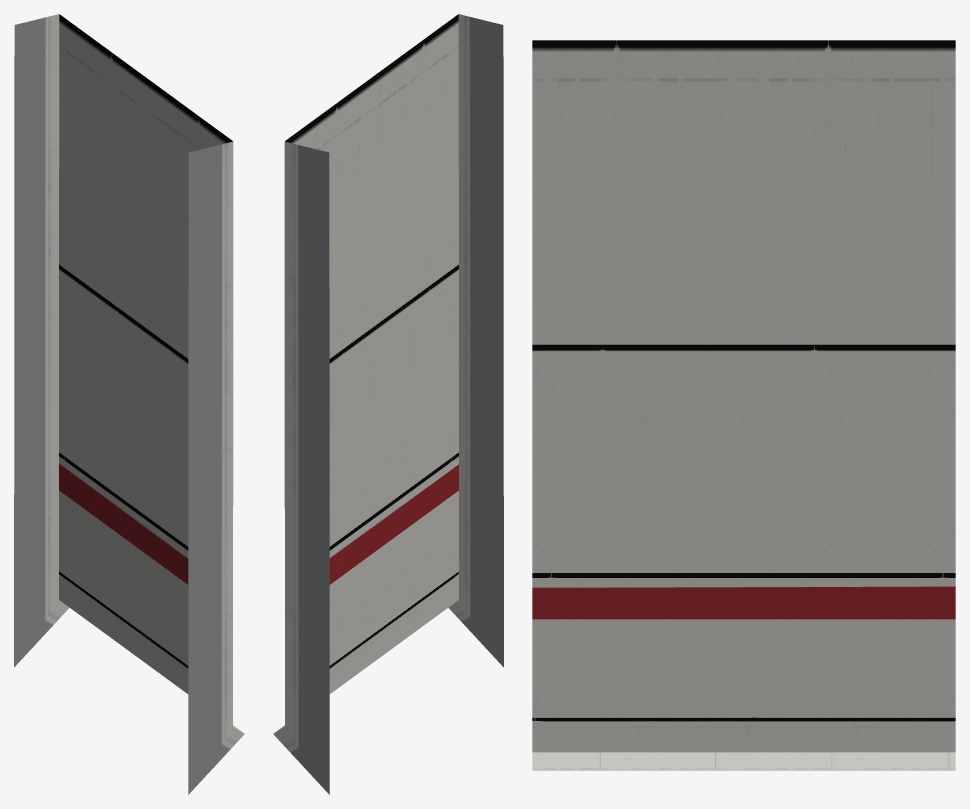
The model's file is G_Env_Arch_Corridor_03_Middle.fbx.
3 views of the same model, side by side, from view 1: azimuth 30°, elevation 25°; view 2: azimuth 150°, elevation 25°; view 3: azimuth 270°, elevation 25° (orthographic). The views are drawn at different scales.
Visible parts, largest first — view 1: G_Env_Arch_Corridor_03_Middle; view 2: G_Env_Arch_Corridor_03_Middle; view 3: G_Env_Arch_Corridor_03_Middle.
Boxes of the visible parts, bbox=[...] form: G_Env_Arch_Corridor_03_Middle: bbox=[14, 14, 244, 794]; G_Env_Arch_Corridor_03_Middle: bbox=[273, 14, 503, 794]; G_Env_Arch_Corridor_03_Middle: bbox=[532, 40, 955, 770].
Size of the model in its own units: 93.8 by 1015 by 499.
